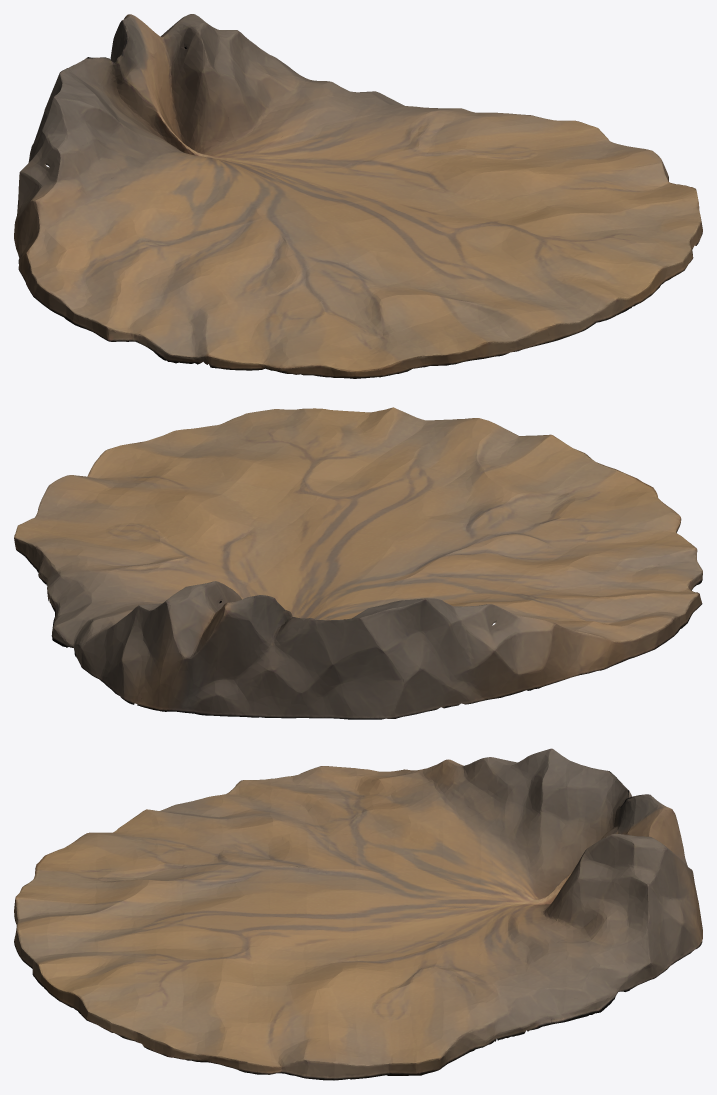
3 views of the same model, one above another, from view 1: azimuth 30°, elevation 25°; view 2: azimuth 150°, elevation 25°; view 3: azimuth 270°, elevation 25° (orthographic). The views are drawn at different scales.
Parts seen in each view (by area): view 1: world; view 2: world; view 3: world.
Boxes of the visible parts, x1=… form: world: x1=14, y1=14, x2=702, y2=378; world: x1=14, y1=407, x2=702, y2=719; world: x1=14, y1=748, x2=702, y2=1080.
Bounding box in the file's own units: 0.9892 × 0.1844 × 0.9976.
1 material, 1 textured.
